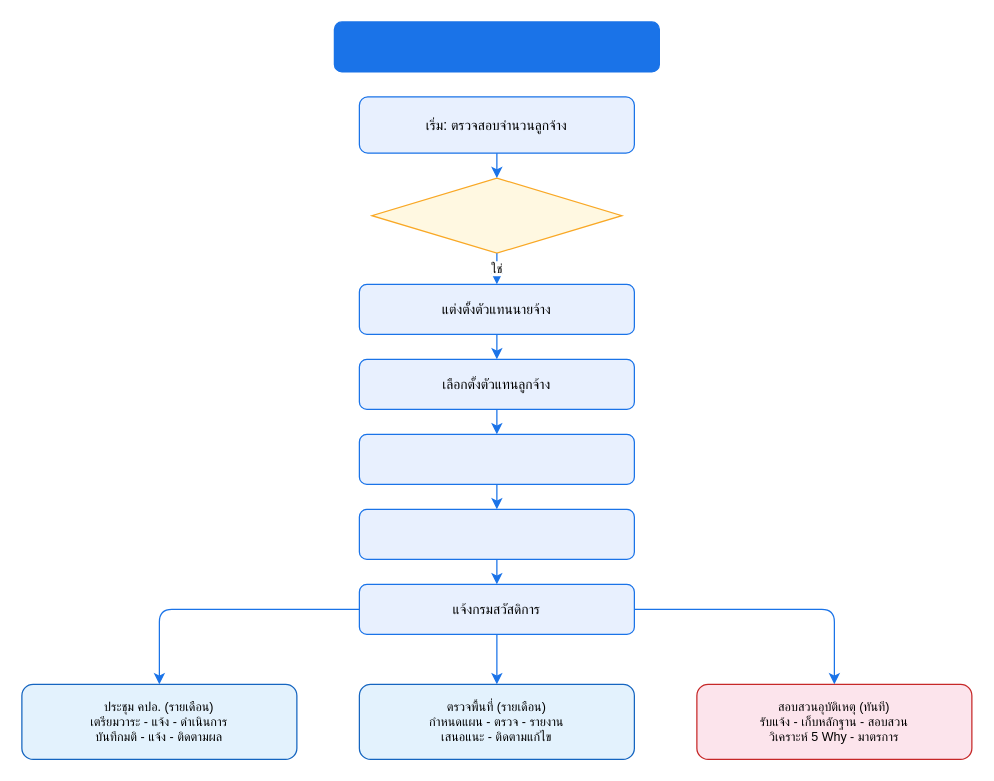
Image size: 994x781. Some labels were removed from this diagram. The centre of each missing label's shape, as x and y in pixels:
"PM-WI-001: คณะกรรมการความปลอดภัย (คปอ.)" goes at (496,46).
"ลูกจ้าง >= 50 คน?" goes at (496,215).
"อบรม คปอ." goes at (496,533).
"ออกคำสั่งแต่งตั้ง คปอ." goes at (496,458).
